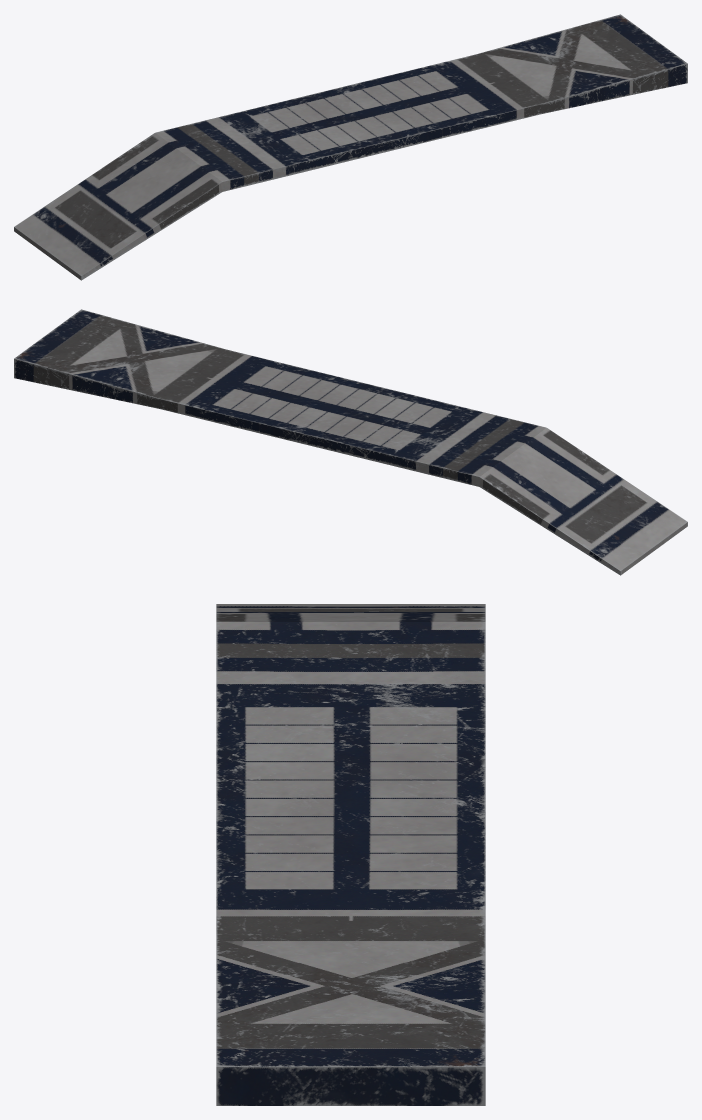
Rendered from wing_l_5.R.fbx.
3 views of the same model, one above another, from view 1: azimuth 30°, elevation 25°; view 2: azimuth 150°, elevation 25°; view 3: azimuth 270°, elevation 25° (orthographic). The views are drawn at different scales.
Visible parts, largest first — view 1: wing_l_5.R; view 2: wing_l_5.R; view 3: wing_l_5.R.
Boxes of the visible parts, x1,y1,x2,y2 form: wing_l_5.R: (14,14,687,280); wing_l_5.R: (14,309,687,575); wing_l_5.R: (216,604,485,1105).
Size of the model in its own units: 95.67 by 10.39 by 18.4.
